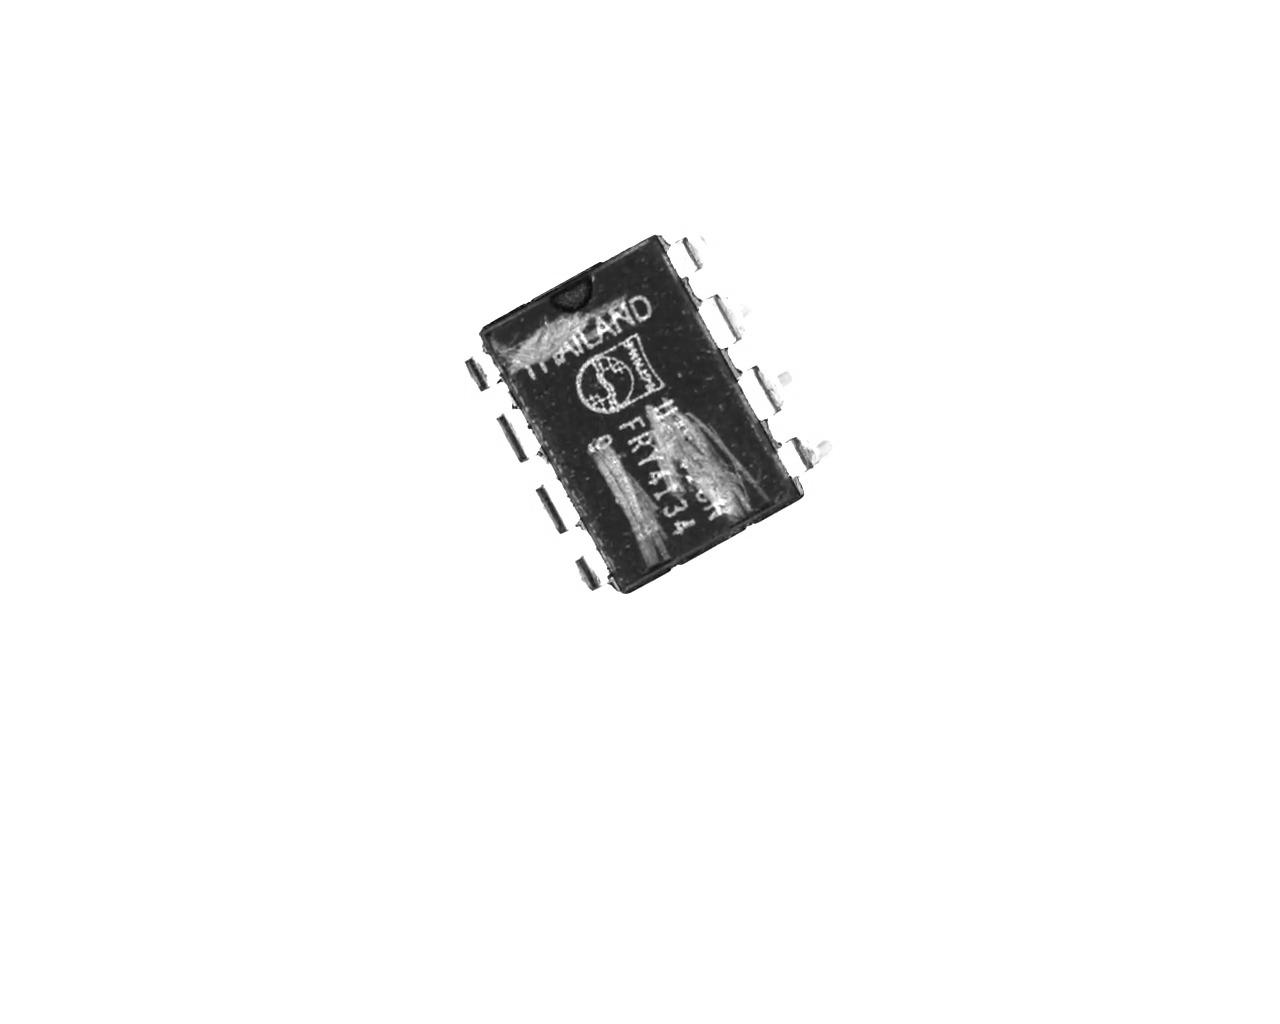Leg: (731, 358, 801, 420), (525, 480, 586, 541), (660, 226, 722, 284), (482, 405, 544, 463), (706, 290, 763, 346), (775, 433, 841, 480), (455, 344, 512, 397), (569, 549, 619, 596)
